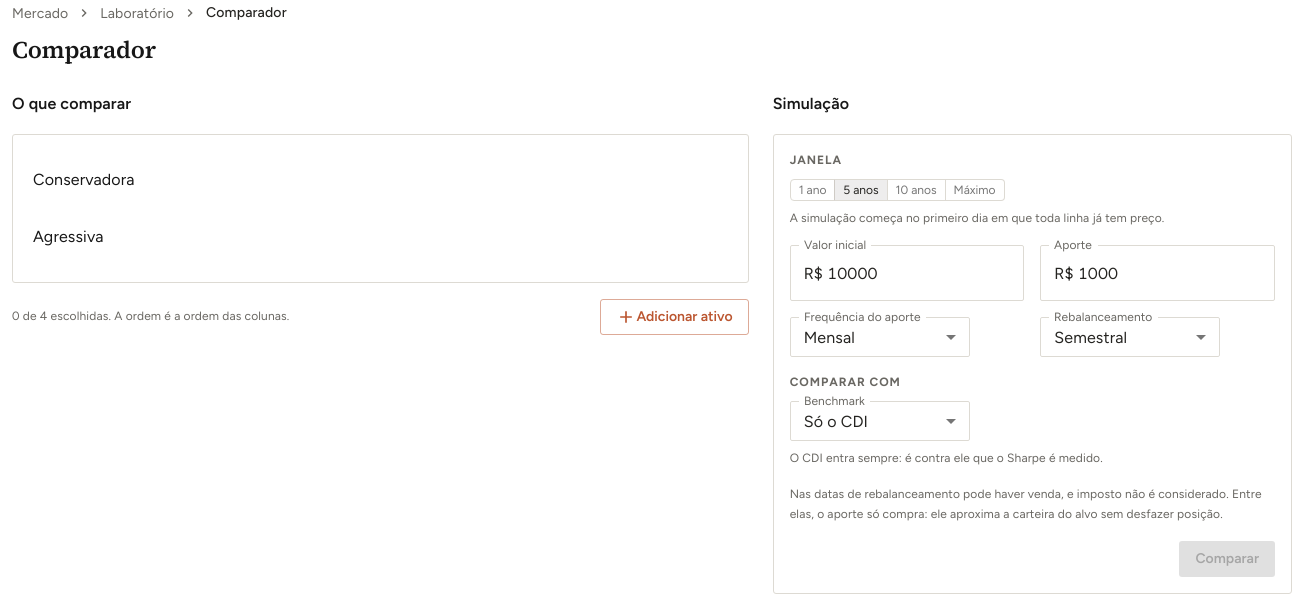
Test case: MarketLaboratoryComparePage › picks carteiras from a list, in the order they were clicked
expect the heading "Comparador" is shown: met, box [12,34,156,66]
Click the text "Conservadora".
click(84, 179)  # box [33,170,135,189]
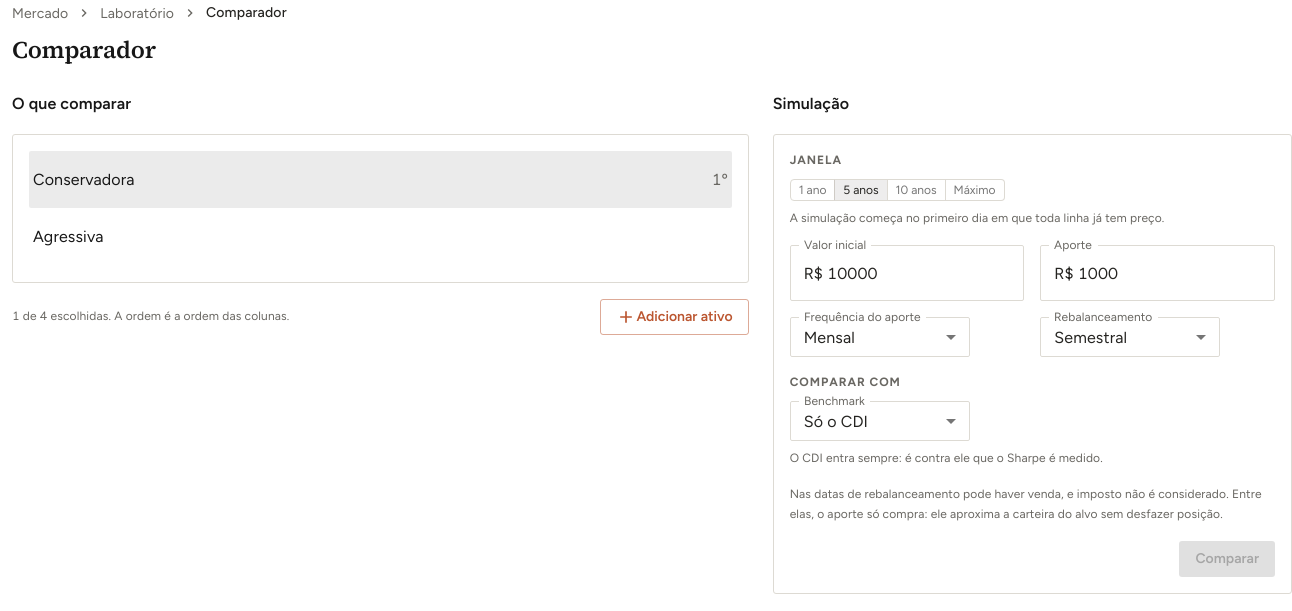
Click the text "Agressiva".
click(68, 237)  # box [33,227,104,246]
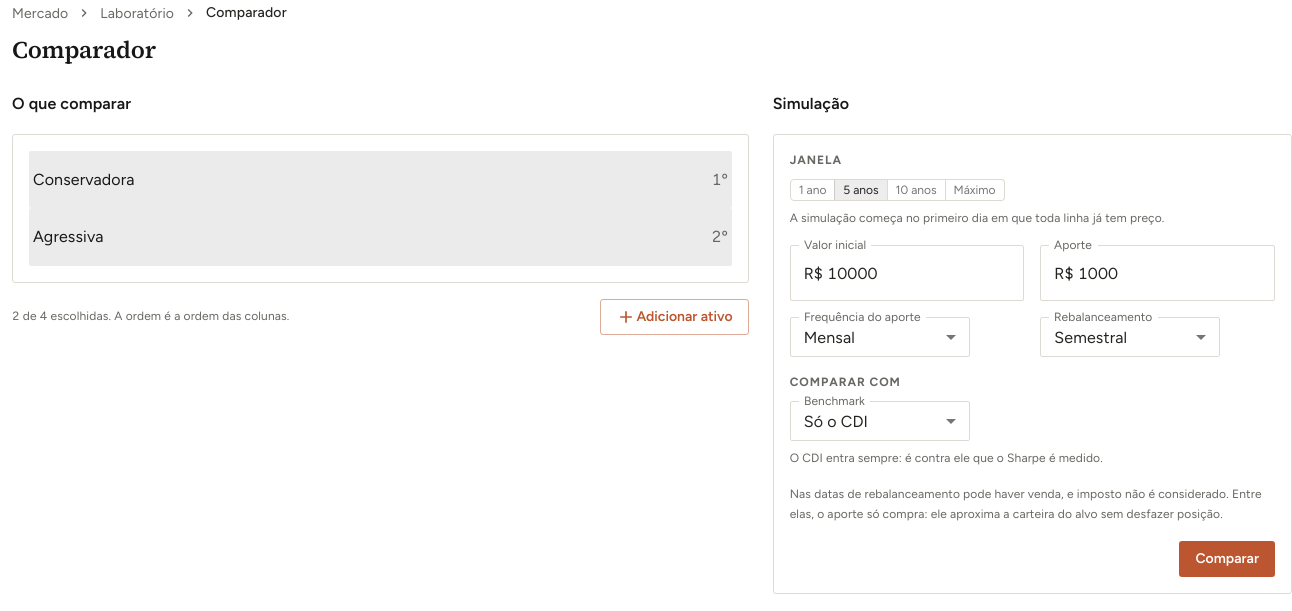
expect the text "1º" is shown: met, box [712,167,728,192]
expect the text "2º" is shown: met, box [712,224,728,250]
expect the text "2 de 4 escolhidas. A ordem é a ordem das colunas." is shown: met, box [12,307,289,327]
